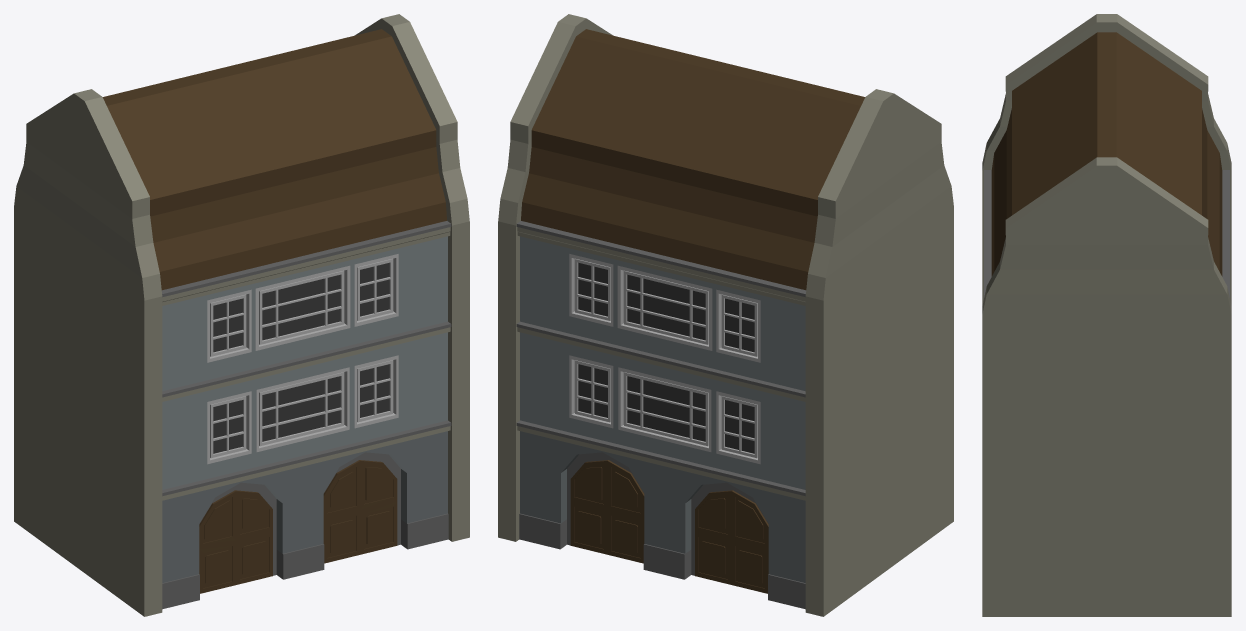
Rendered from Building2_Small.glb.
3 renders of one model, left to right at view 1: azimuth 30°, elevation 25°; view 2: azimuth 150°, elevation 25°; view 3: azimuth 270°, elevation 25°, orthographic. The views are drawn at different scales.
Visible parts, largest first — view 1: Building2_Small; view 2: Building2_Small; view 3: Building2_Small.
Part boxes in pixels (x1=…): Building2_Small: x1=14, y1=14, x2=469, y2=616; Building2_Small: x1=498, y1=14, x2=953, y2=616; Building2_Small: x1=982, y1=14, x2=1231, y2=616.
Size of the model in its own units: 3.58 by 4.97 by 2.49.
